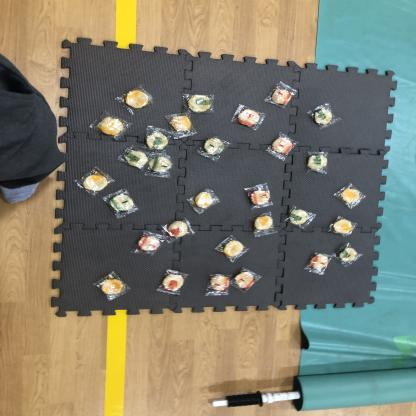green_setoshio: (282, 203, 320, 232), (301, 148, 334, 179), (198, 135, 235, 162), (307, 103, 343, 129), (104, 189, 138, 216), (183, 90, 217, 115), (147, 150, 177, 178), (143, 126, 174, 152), (116, 144, 146, 170), (336, 242, 367, 266)
red_setoshio: (229, 103, 267, 130), (242, 181, 274, 209), (265, 132, 297, 160), (304, 249, 334, 276), (162, 218, 195, 242), (232, 266, 262, 292), (134, 230, 166, 254), (202, 272, 232, 297), (156, 270, 187, 294), (268, 82, 297, 107)
yellow_setoshio: (93, 271, 130, 299), (91, 113, 130, 138), (214, 235, 250, 261), (118, 85, 155, 110), (76, 168, 111, 194), (187, 187, 220, 214), (166, 112, 199, 137), (326, 214, 360, 238), (248, 211, 279, 235), (336, 184, 366, 208)
